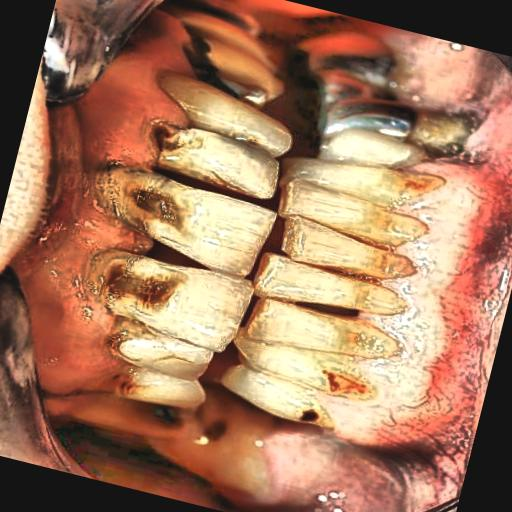Gingivitis: (0, 0, 225, 437), (312, 72, 512, 476)
